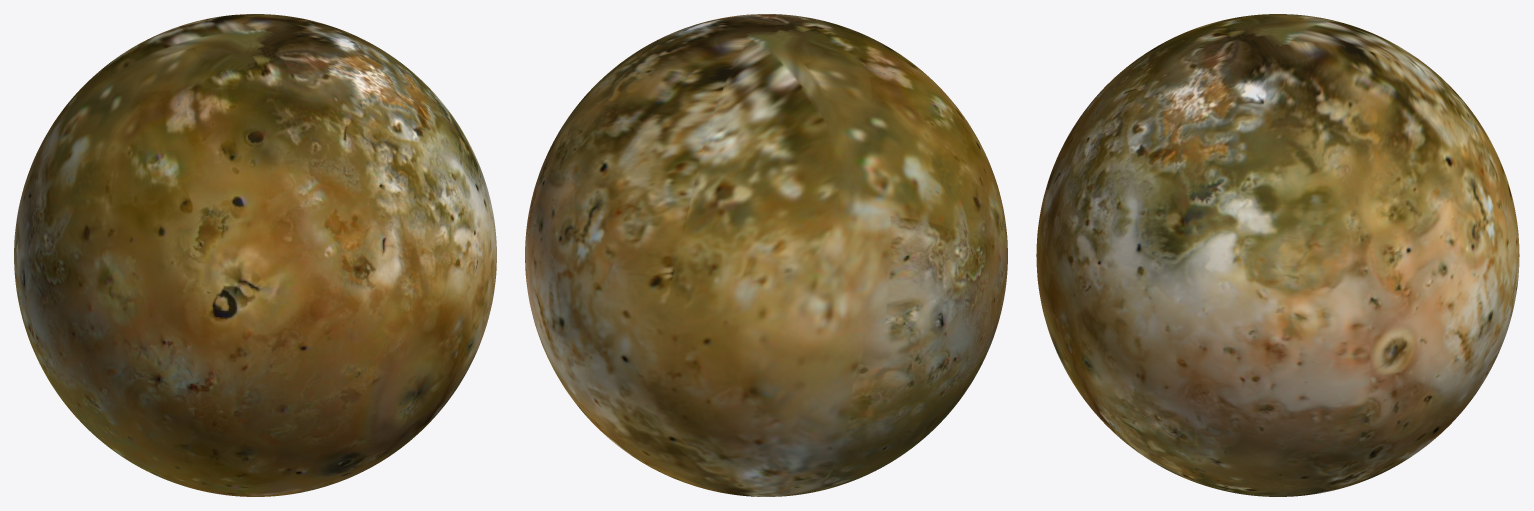
3 renders of one model, left to right at view 1: azimuth 30°, elevation 25°; view 2: azimuth 150°, elevation 25°; view 3: azimuth 270°, elevation 25°, orthographic.
Visible parts, largest first — view 1: Io_High; view 2: Io_High; view 3: Io_High.
Part boxes in pixels (<box>): Io_High: <box>14,14,496,496</box>; Io_High: <box>525,14,1007,496</box>; Io_High: <box>1036,14,1519,496</box>.
Bounding box in the file's own units: 200 × 200 × 200.
1 material, 1 textured.
